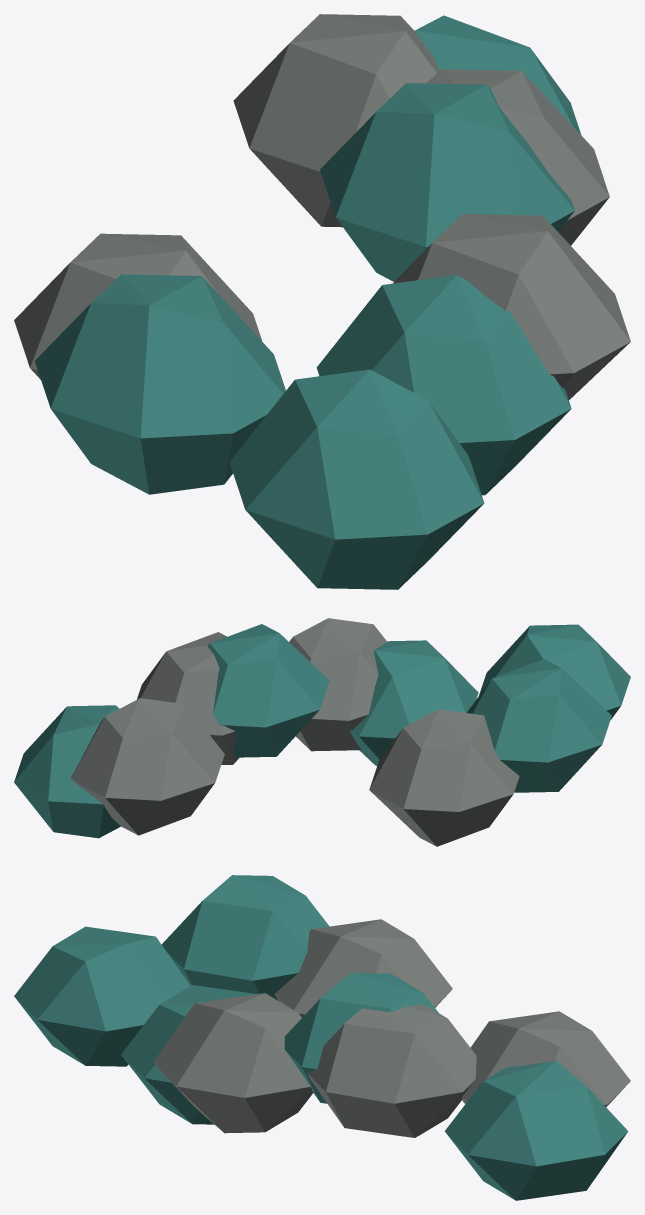
Rendered from coast-reef.lod1.glb.
3 renders of one model, top to bottom at view 1: azimuth 30°, elevation 25°; view 2: azimuth 150°, elevation 25°; view 3: azimuth 270°, elevation 25°, orthographic. The views are drawn at different scales.
Parts seen in each view (by area): view 1: coast-reef__body; view 2: coast-reef__body; view 3: coast-reef__body.
Part boxes in pixels (x1=…): coast-reef__body: x1=14, y1=14, x2=630, y2=589; coast-reef__body: x1=14, y1=618, x2=630, y2=846; coast-reef__body: x1=14, y1=875, x2=630, y2=1200.
Size of the model in its own units: 4.88 by 1.69 by 5.44.
